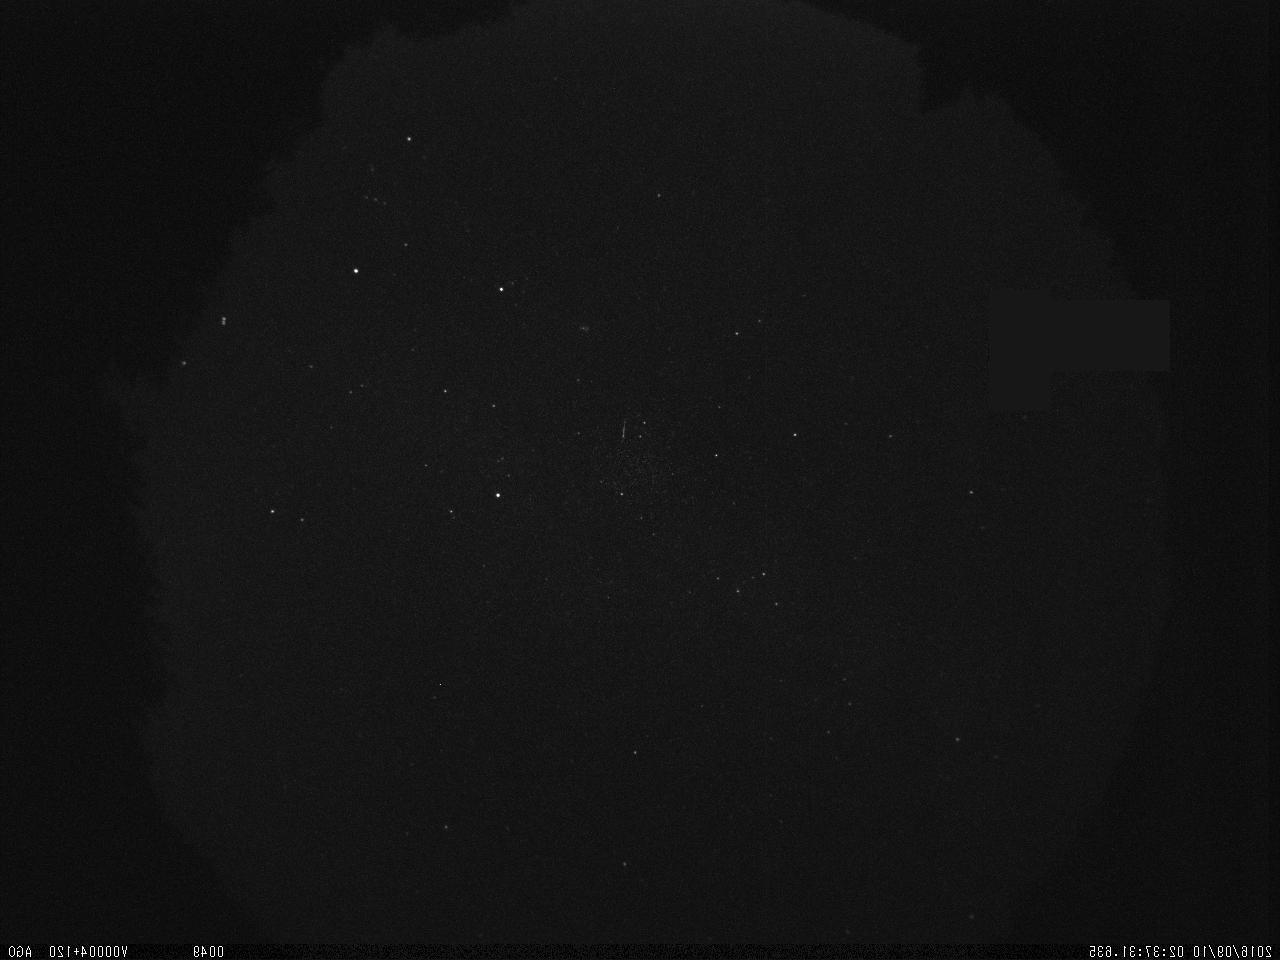meteor: (610, 414, 634, 451)
